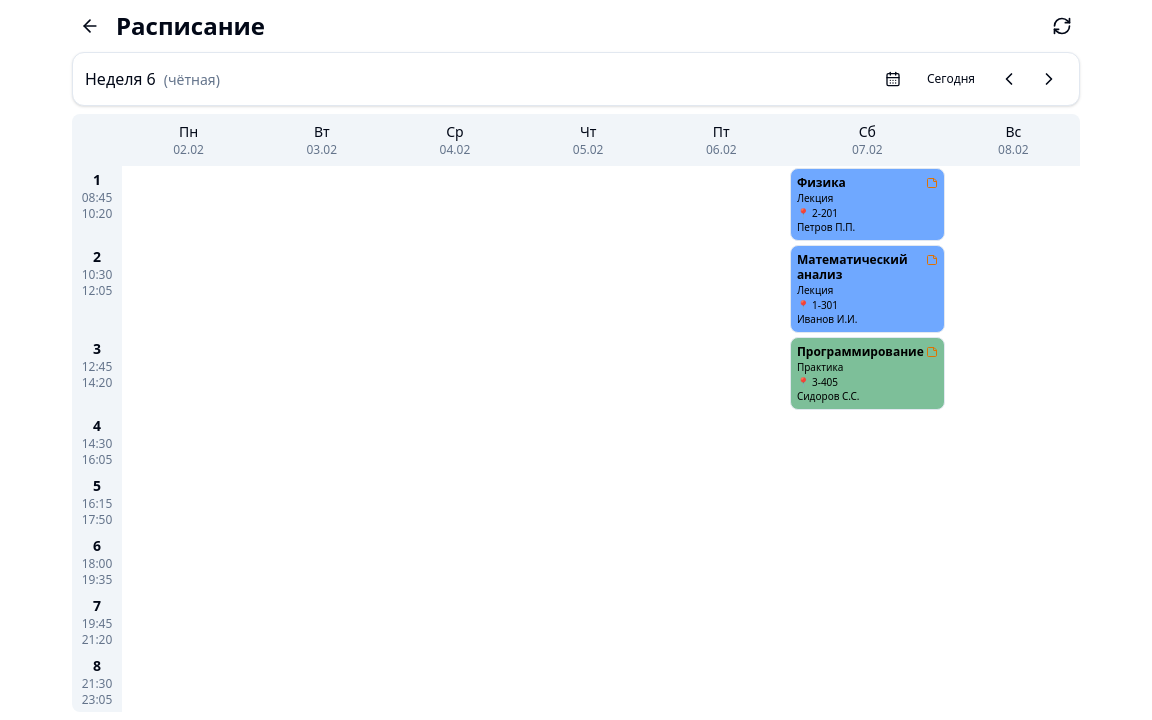
Test: SchedulePage › opens lesson modal on entry click
The image size is (1152, 720).
Expected: the text "Математический анализ" is shown, [797, 252, 924, 282]
Click the button "Математический анализ Лекция 📍 1-301 Иванов И.И.".
click(867, 289)  # box [790, 245, 945, 333]
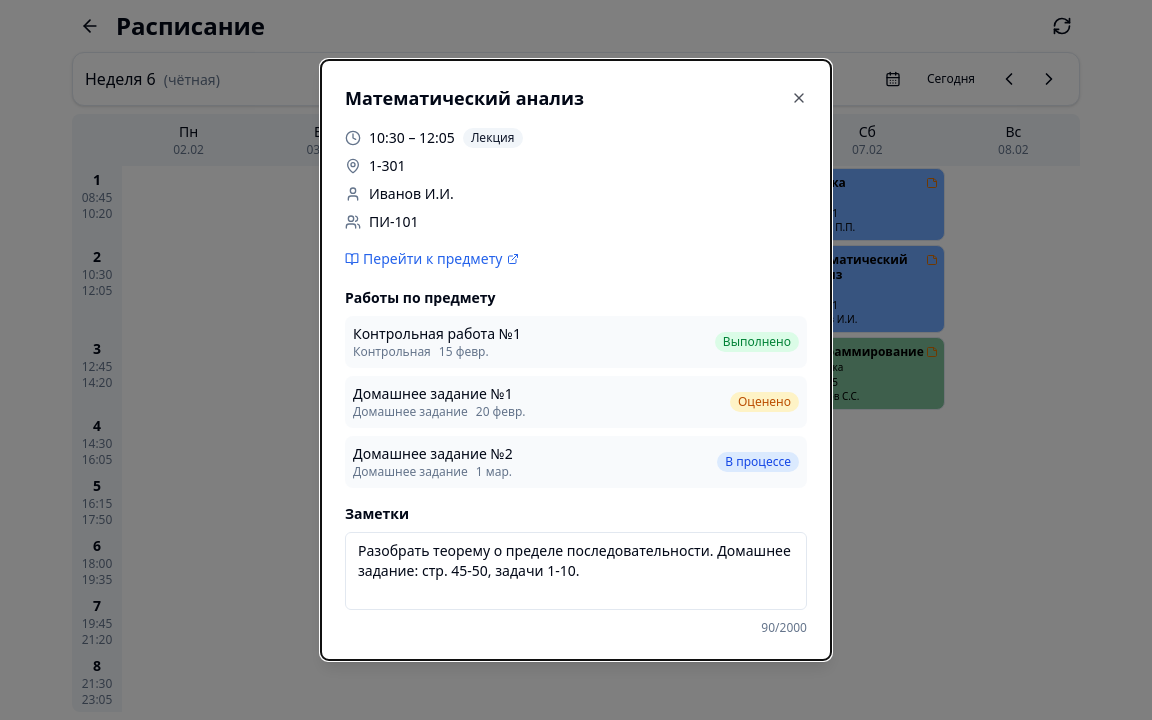
Now the dialog is shown
